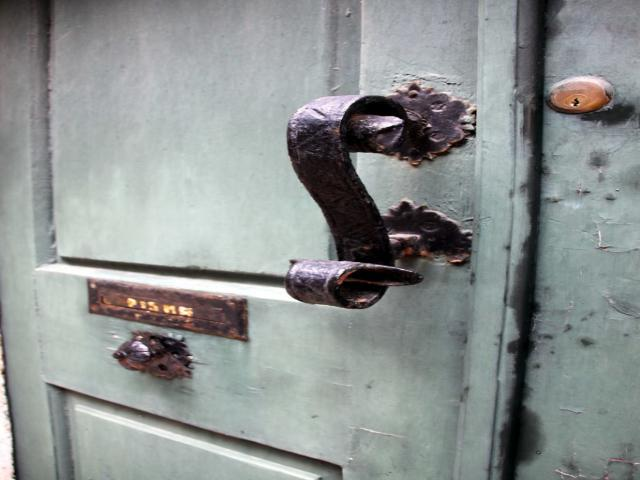Door-handle: (288, 79, 473, 308)
